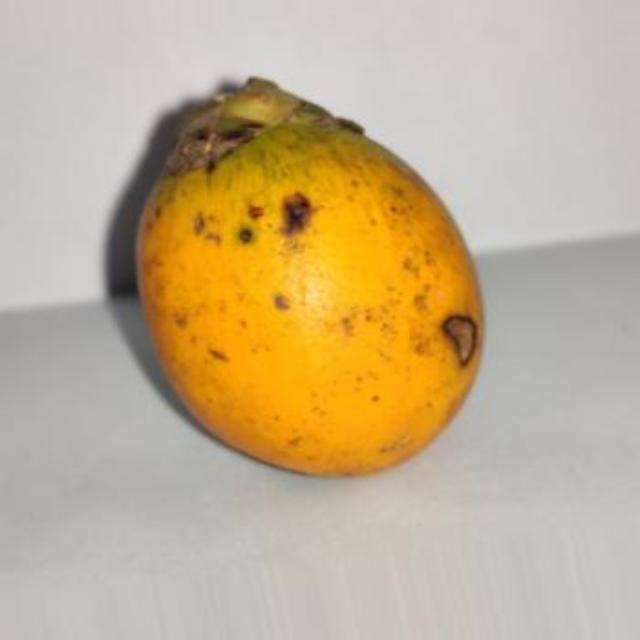good: (135, 79, 486, 479)
